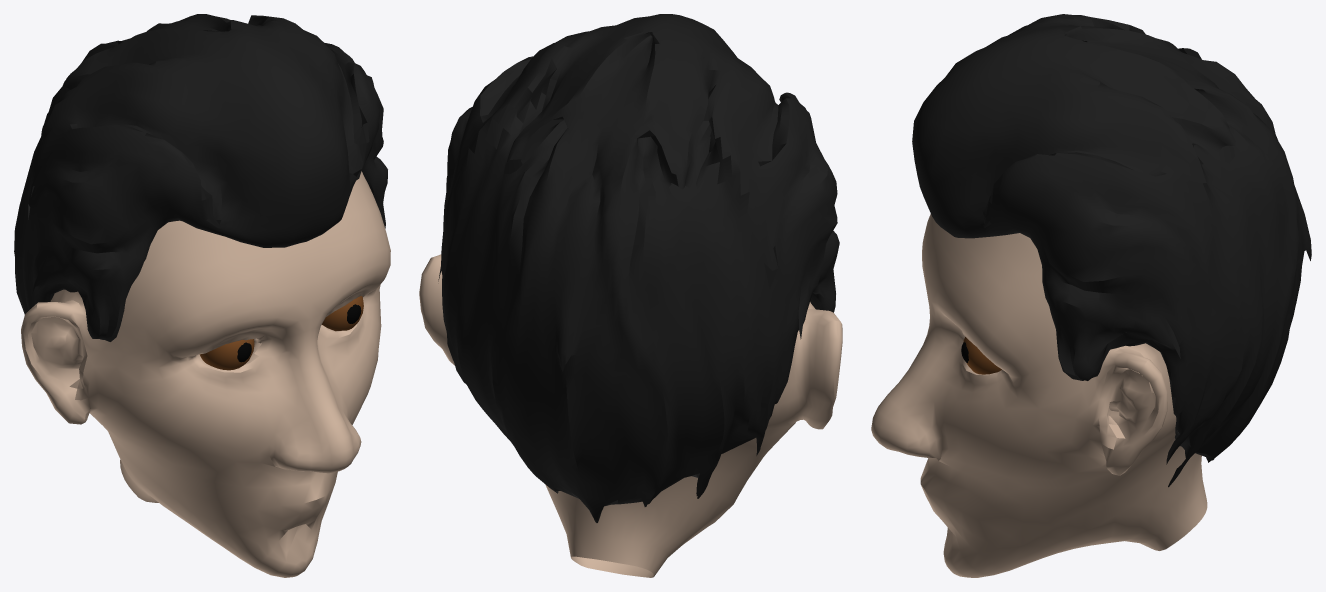
The model's file is kafadenemeeeeeeee.fbx.
3 renders of one model, left to right at view 1: azimuth 30°, elevation 25°; view 2: azimuth 150°, elevation 25°; view 3: azimuth 270°, elevation 25°, orthographic. The views are drawn at different scales.
Parts seen in each view (by area): view 1: kafa1; view 2: kafa1; view 3: kafa1.
Part boxes in pixels (x1,y1,x2,y2): kafa1: (14,14,390,577); kafa1: (419,14,842,577); kafa1: (871,14,1311,577).
Size of the model in its own units: 90.85 by 120 by 89.39.
